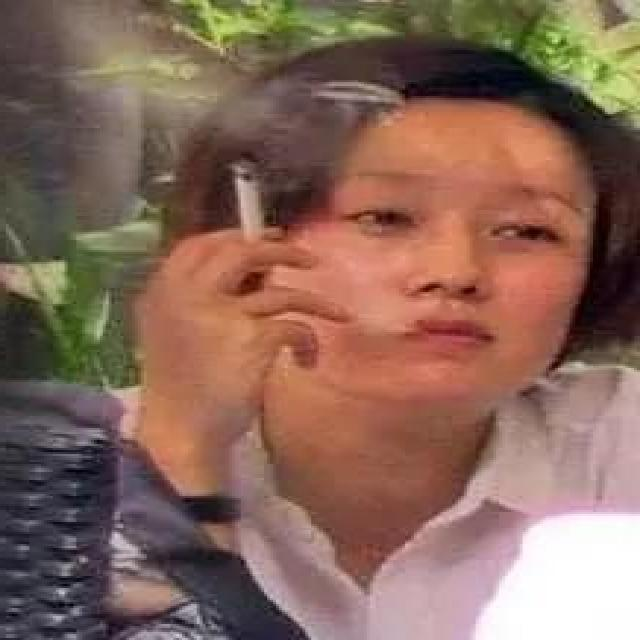smoking: (229, 151, 268, 261)
